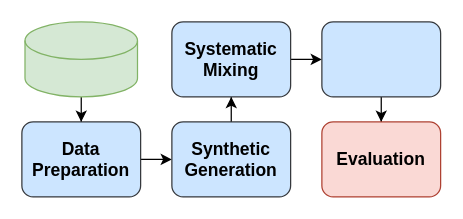
Image size: 463x219. Some labels were removed from this diagram. The shapes that lost their labels are listed below. From the top down, each one's box as (x1, y1, x2, y2) in pixels, then its label:
(24, 21, 138, 97): Dataset
(321, 21, 441, 97): Classification
